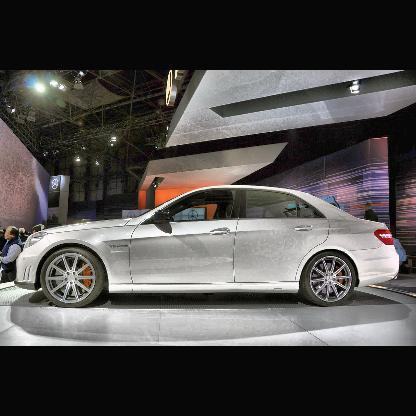Mercedes-Benz E-Class Sedan 2012: (12, 182, 402, 308)
